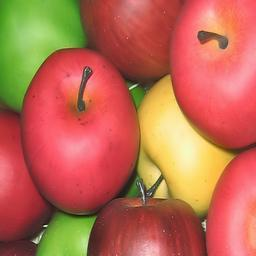apple: (20, 50, 140, 219), (168, 1, 255, 152), (81, 1, 180, 81), (88, 192, 205, 255)
